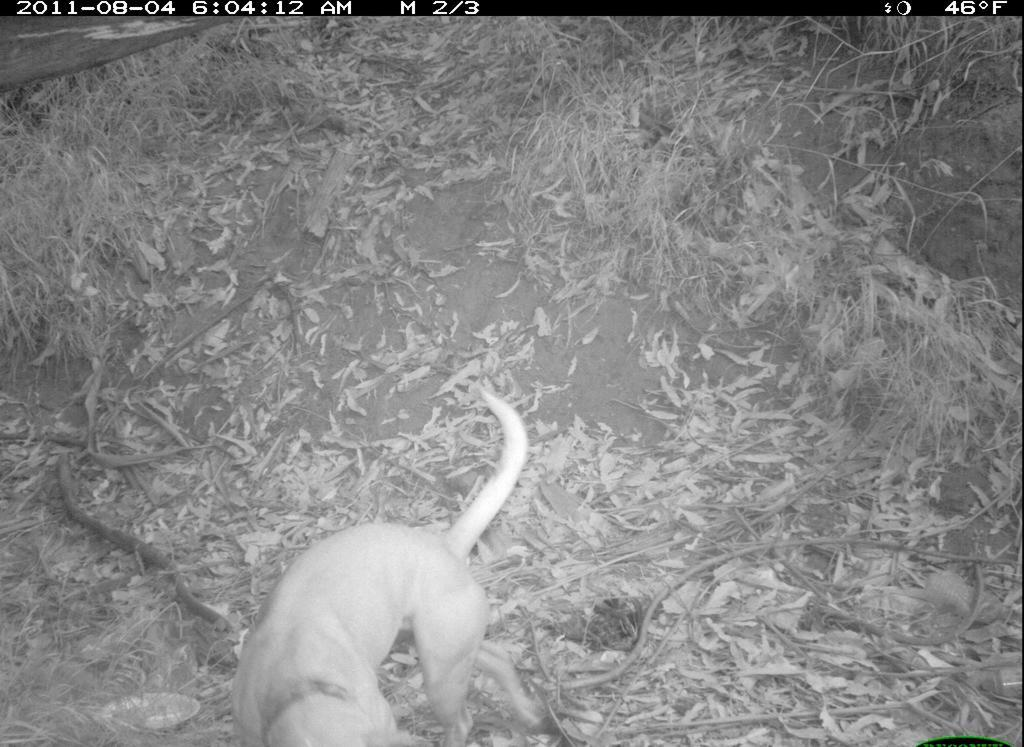dog: (216, 388, 552, 745)
